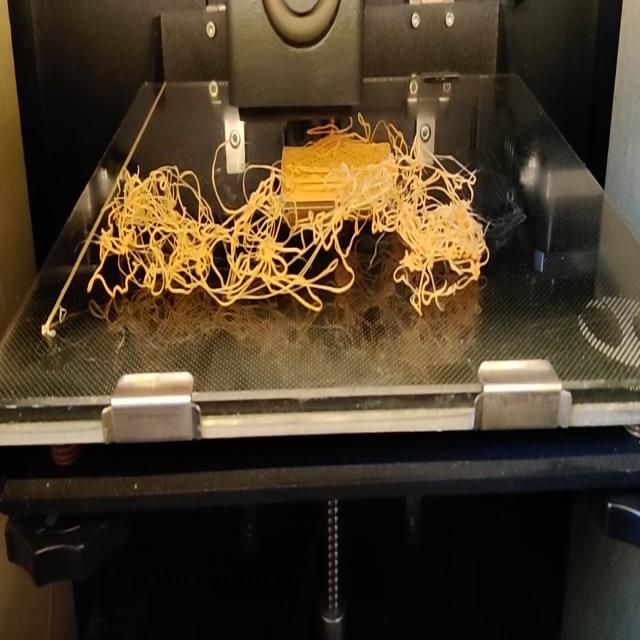spaghetti: (90, 115, 496, 312)
